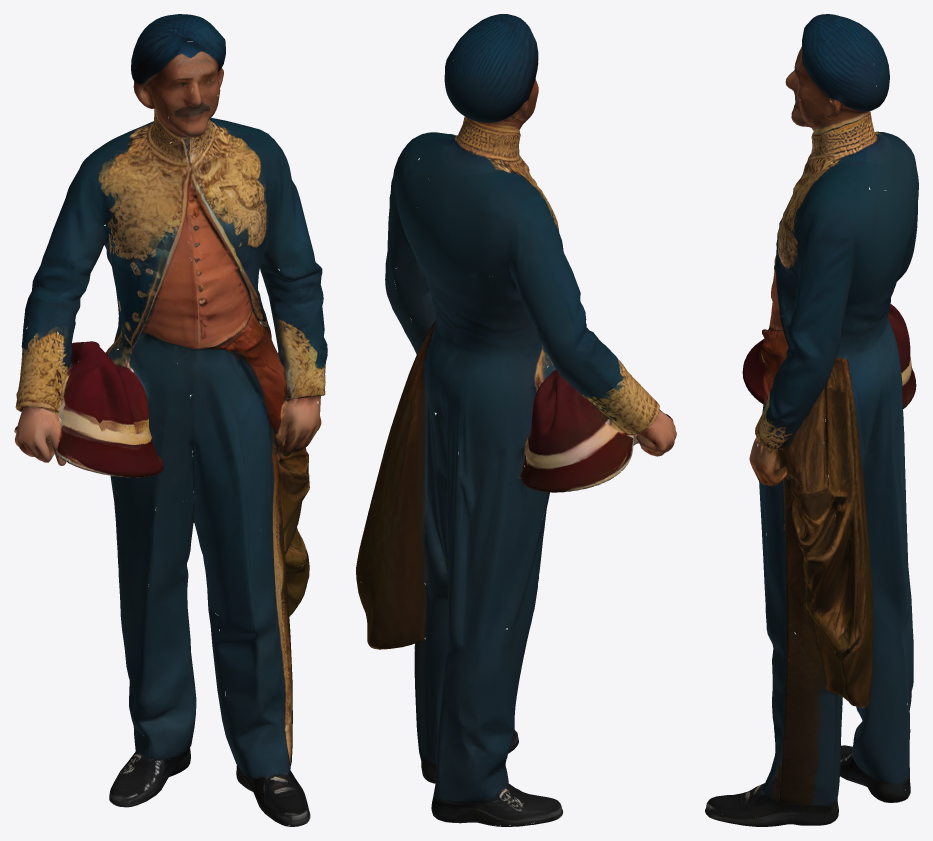
The model's file is helas_final.gltf.
The picture shows the model from 3 angles, left to right: view 1: azimuth 30°, elevation 25°; view 2: azimuth 150°, elevation 25°; view 3: azimuth 270°, elevation 25°; orthographic projection.
Visible parts, largest first — view 1: tripo_node_b6aa9b52-fe99-476f-89e7-14a5b438c3ff; view 2: tripo_node_b6aa9b52-fe99-476f-89e7-14a5b438c3ff; view 3: tripo_node_b6aa9b52-fe99-476f-89e7-14a5b438c3ff.
Part boxes in pixels (box(x1,y1,x2,y2)): tripo_node_b6aa9b52-fe99-476f-89e7-14a5b438c3ff: box(14, 14, 327, 826); tripo_node_b6aa9b52-fe99-476f-89e7-14a5b438c3ff: box(356, 14, 676, 826); tripo_node_b6aa9b52-fe99-476f-89e7-14a5b438c3ff: box(705, 14, 918, 826).
Size of the model in its own units: 0.6102 by 1.5 by 0.3778.
Materials: 1 (1 with a texture image).
